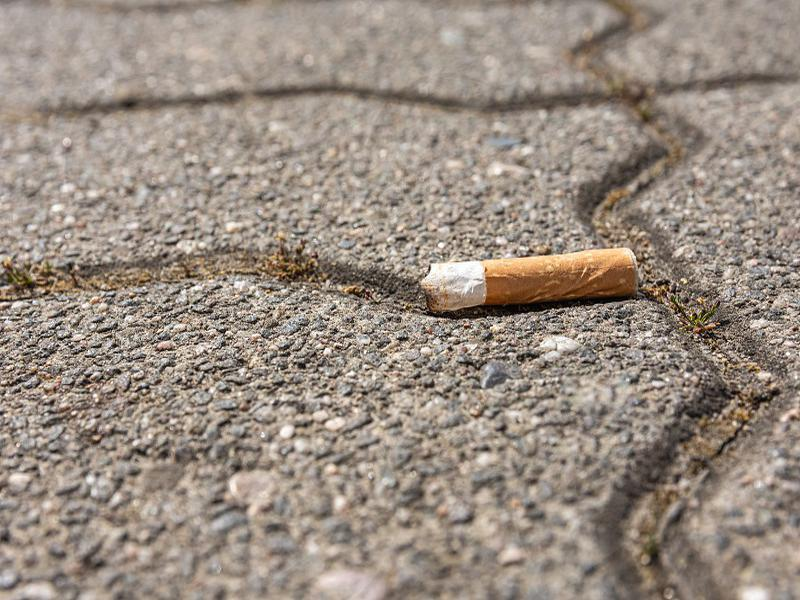burned_cigarette: (412, 244, 645, 314)
